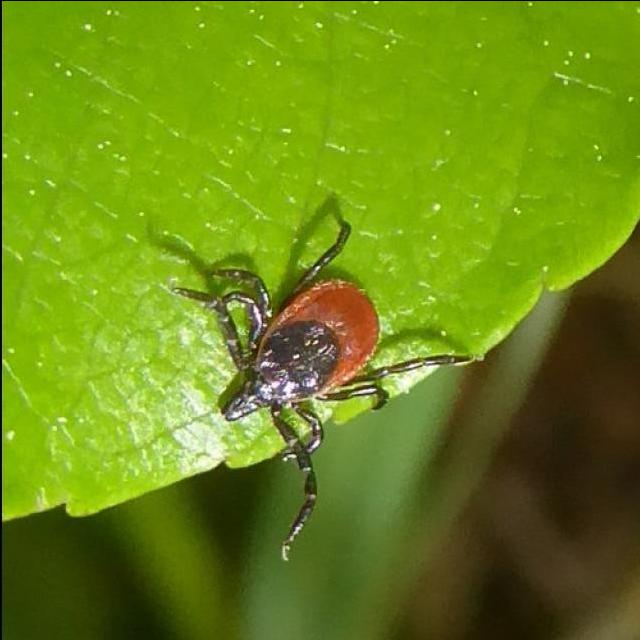Ixodes Ricinus-F: (169, 216, 472, 559)
